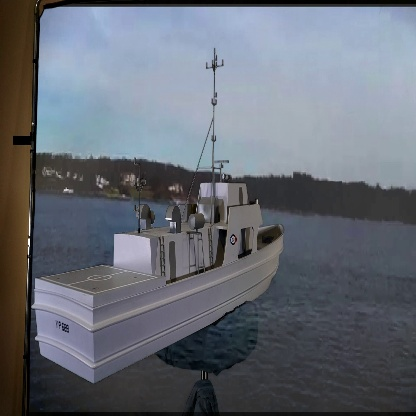YP689: (30, 48, 285, 376)
